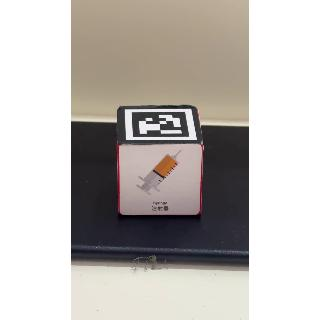Syringe: (119, 141, 203, 219)
